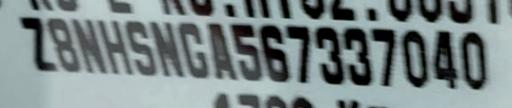letter: (204, 20, 238, 82), (18, 14, 54, 72), (456, 29, 490, 90), (71, 17, 107, 74), (312, 23, 346, 83), (176, 21, 210, 80), (149, 20, 183, 78), (46, 15, 80, 72), (124, 19, 156, 78), (230, 22, 262, 81), (98, 17, 130, 75), (258, 24, 290, 82), (397, 30, 429, 88), (342, 25, 372, 85), (368, 24, 396, 86), (430, 29, 458, 89), (286, 22, 312, 81)
